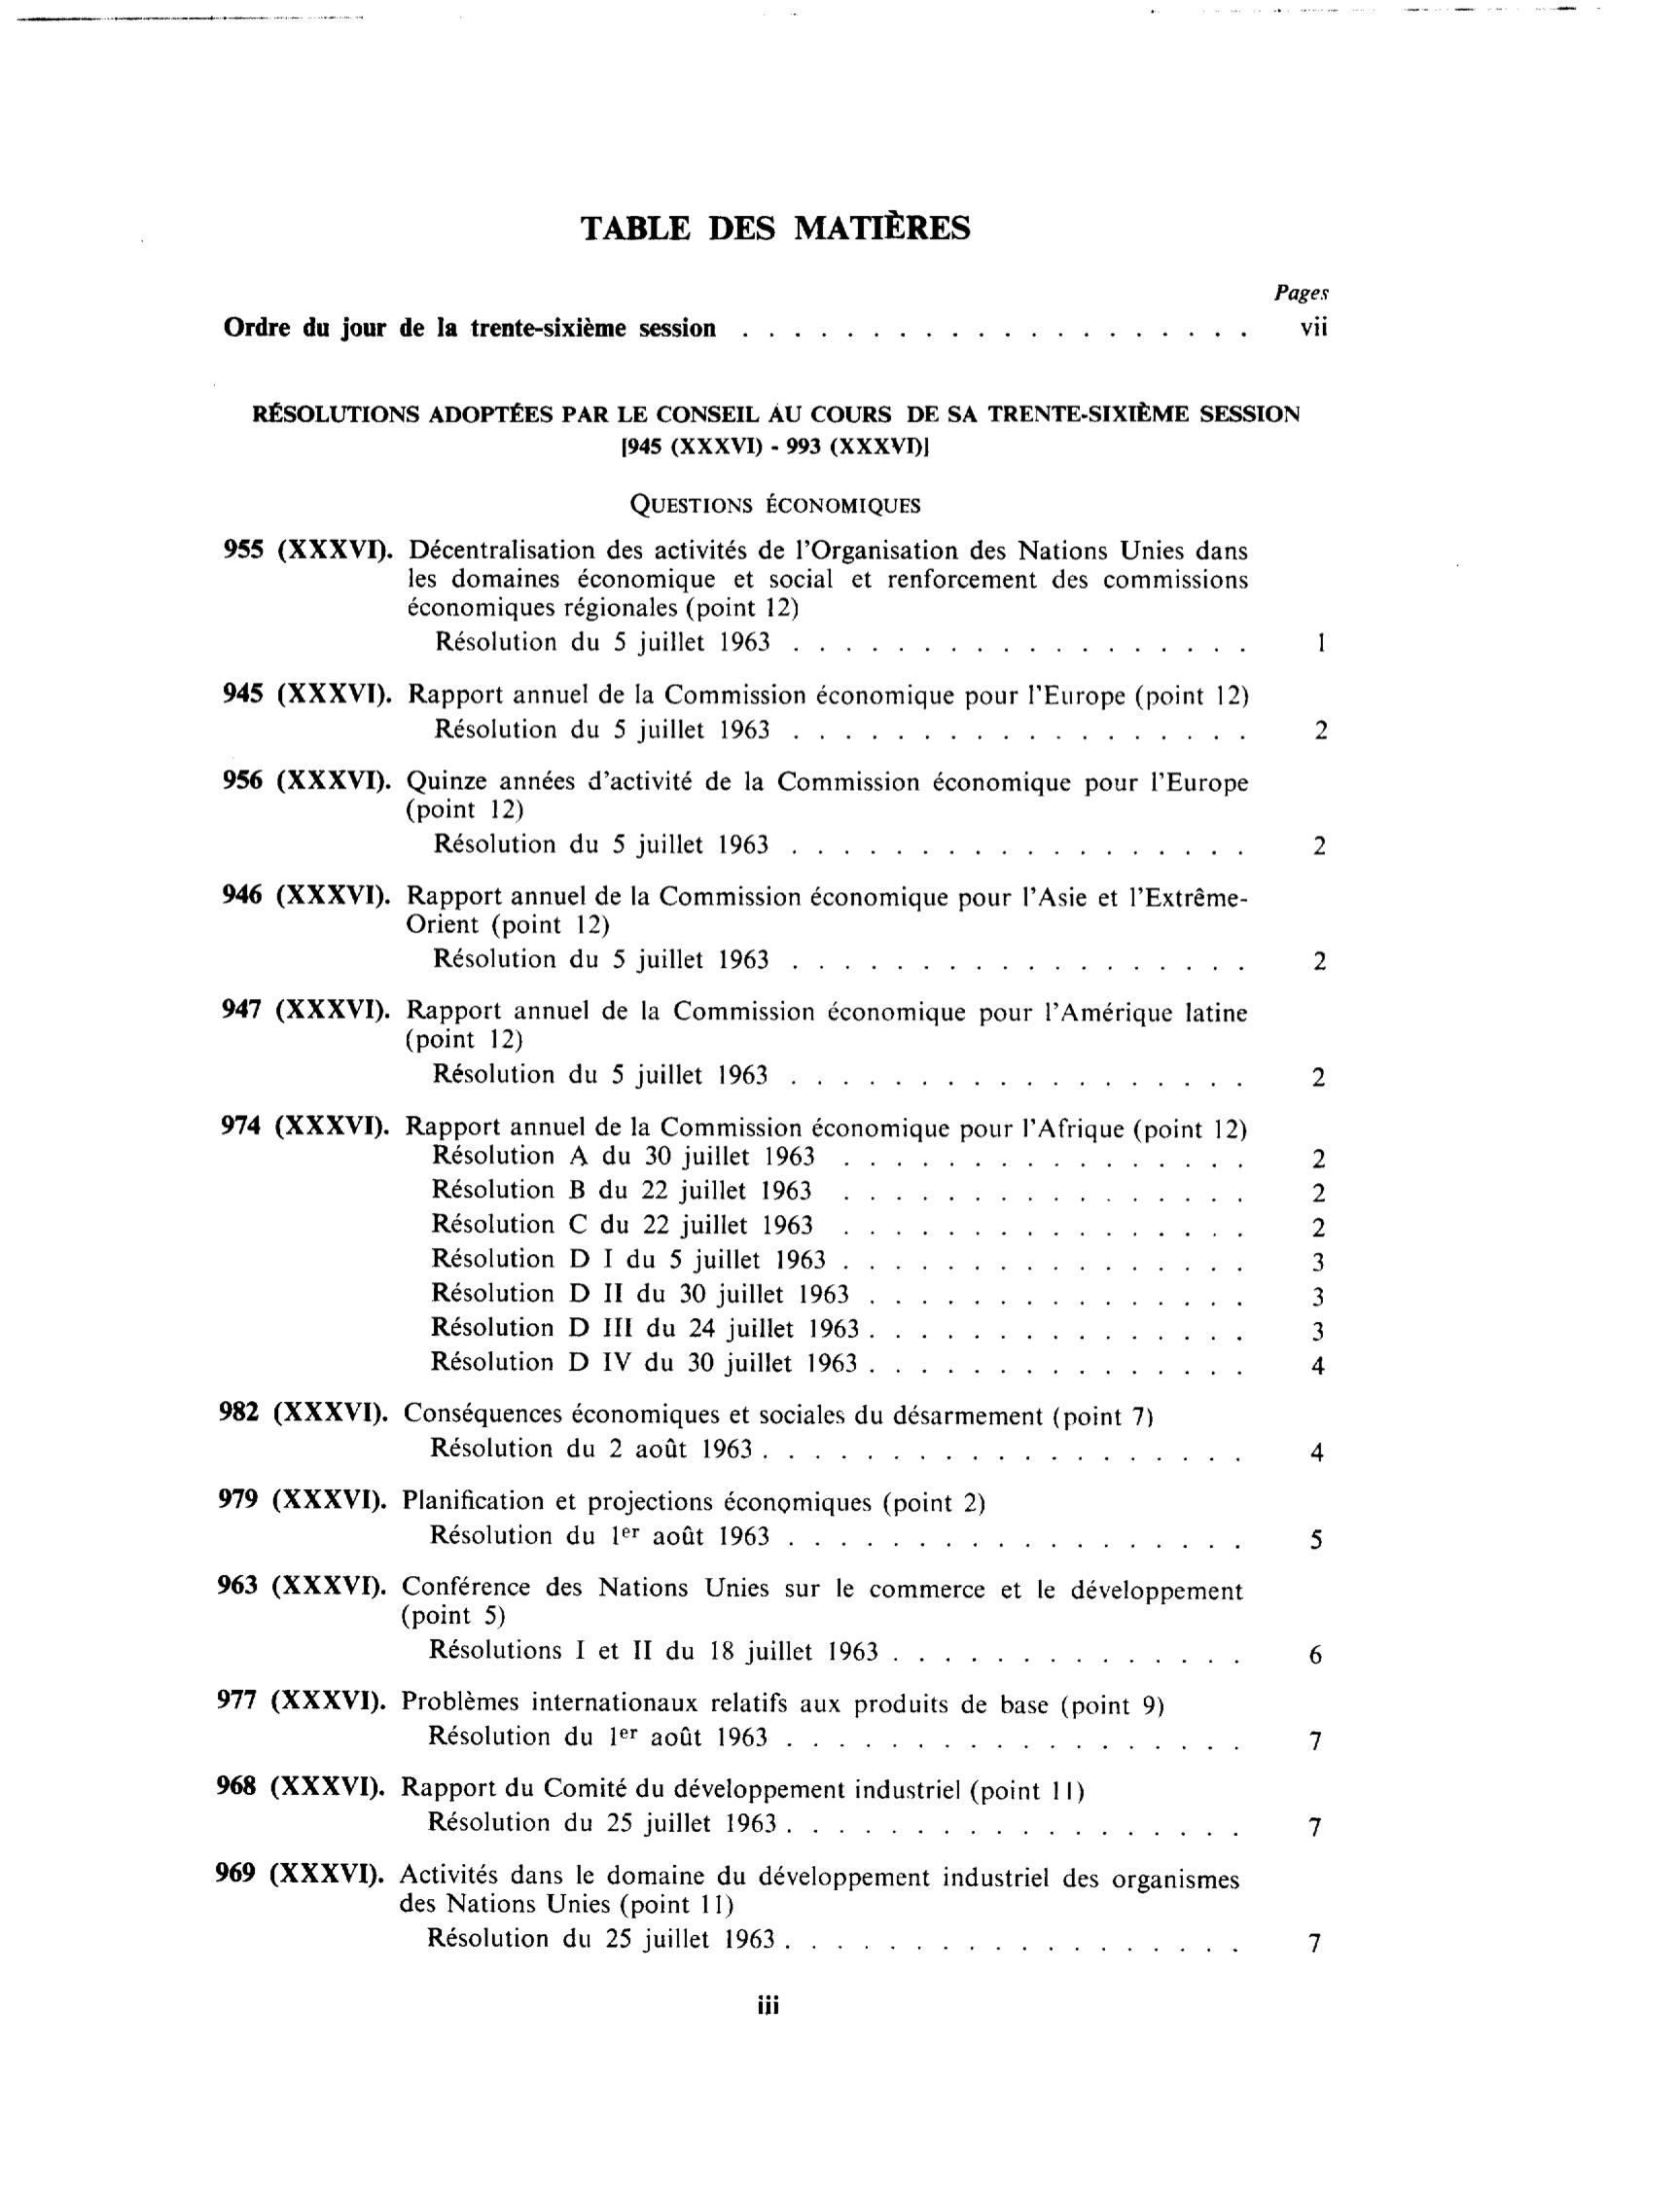QuireMarksZone: (184, 203, 1375, 1992)
TitlePageZone: (743, 1985, 794, 2031)
